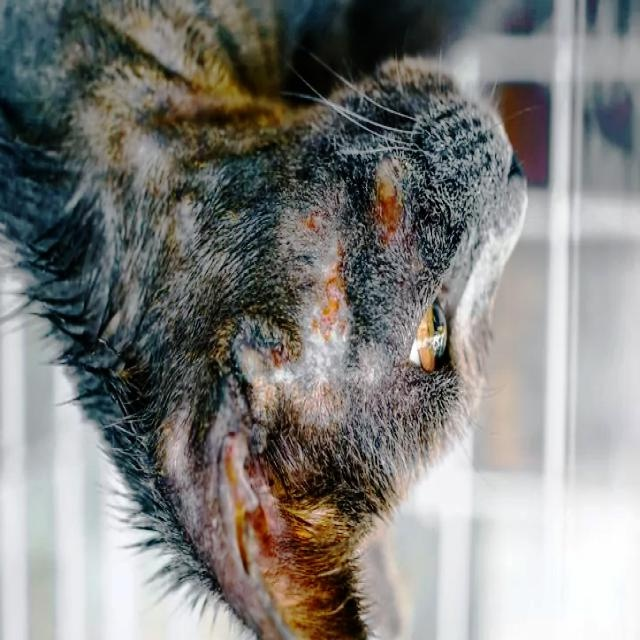ringworm: (308, 251, 354, 382), (235, 339, 296, 391), (369, 184, 401, 245), (298, 214, 326, 243)
